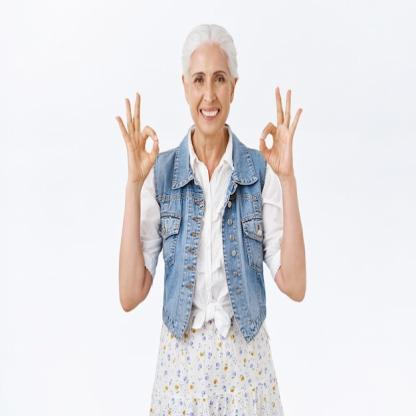ok: (114, 92, 162, 184), (258, 82, 304, 178)
